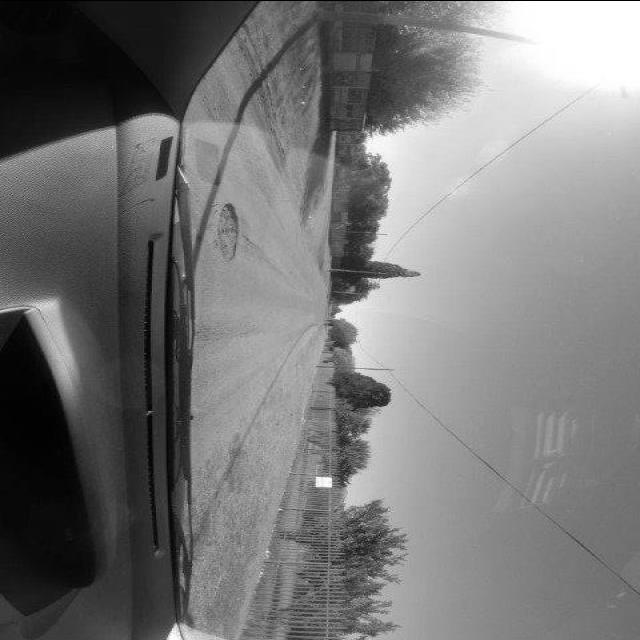jalan retak: (217, 74, 296, 230), (238, 230, 298, 286), (197, 308, 295, 342)
lubang: (210, 197, 242, 263)
